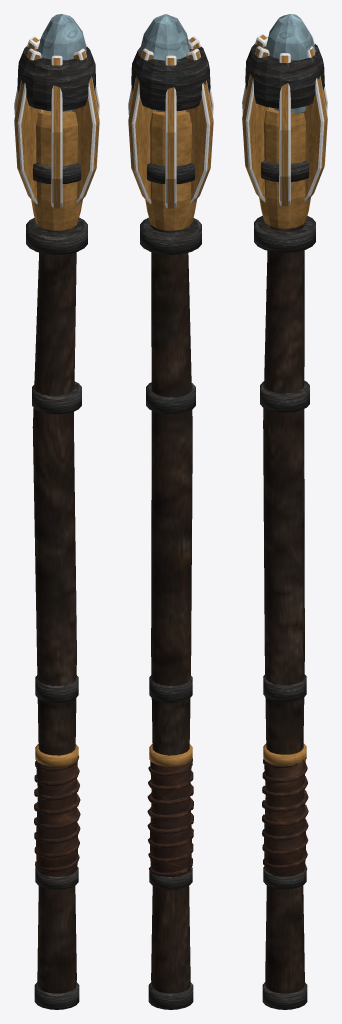
File: choir_rod.glb
3 renders of one model, left to right at view 1: azimuth 30°, elevation 25°; view 2: azimuth 150°, elevation 25°; view 3: azimuth 330°, elevation 25°, orthographic.
Visible parts, largest first — view 1: Straight palm shaft and tapered ironwood.013, Swaged head socket.012, Hollow resonant bell crown, Bound palm grip.022, Choir rod decorative cast bell fin.003, Choir rod decorative cast bell fin.005, Continuous bound leather seam.022, Gem clouded conductor, Shaft collar.010, Choir rod decorative cast bell fin.004, Shaft collar.009, Socketed pommel ferrule.013 (+4 smaller); view 2: Straight palm shaft and tapered ironwood.013, Swaged head socket.012, Hollow resonant bell crown, Bound palm grip.022, Choir rod decorative cast bell fin.001, Choir rod decorative cast bell fin.003, Continuous bound leather seam.022, Gem clouded conductor, Shaft collar.010, Choir rod decorative cast bell fin.002, Shaft collar.009, Socketed pommel ferrule.013 (+4 smaller); view 3: Straight palm shaft and tapered ironwood.013, Bound palm grip.022, Hollow resonant bell crown, Swaged head socket.012, Choir rod decorative cast bell fin.004, Choir rod decorative cast bell fin, Continuous bound leather seam.022, Gem clouded conductor, Choir rod decorative cast bell fin.005, Shaft collar.010, Shaft collar.009, Socketed pommel ferrule.013 (+4 smaller).
Part boxes in pixels (<box>): Straight palm shaft and tapered ironwood.013: <box>32,225,76,993</box>; Swaged head socket.012: <box>31,110,82,230</box>; Hollow resonant bell crown: <box>17,39,95,111</box>; Bound palm grip.022: <box>36,760,78,876</box>; Choir rod decorative cast bell fin.003: <box>14,48,42,203</box>; Choir rod decorative cast bell fin.005: <box>71,48,99,204</box>; Continuous bound leather seam.022: <box>34,756,80,871</box>; Gem clouded conductor: <box>37,14,86,112</box>; Shaft collar.010: <box>26,217,87,254</box>; Choir rod decorative cast bell fin.004: <box>51,55,62,208</box>; Shaft collar.009: <box>32,381,81,414</box>; Socketed pommel ferrule.013: <box>34,982,79,1009</box>; Straight palm shaft and tapered ironwood.013: <box>151,225,192,993</box>; Swaged head socket.012: <box>145,110,196,230</box>; Hollow resonant bell crown: <box>131,39,210,110</box>; Bound palm grip.022: <box>150,760,191,877</box>; Choir rod decorative cast bell fin.001: <box>128,48,155,203</box>; Choir rod decorative cast bell fin.003: <box>185,48,213,203</box>; Continuous bound leather seam.022: <box>147,758,193,876</box>; Gem clouded conductor: <box>140,14,189,112</box>; Shaft collar.010: <box>140,217,201,254</box>; Choir rod decorative cast bell fin.002: <box>165,55,176,208</box>; Shaft collar.009: <box>146,382,195,414</box>; Socketed pommel ferrule.013: <box>148,982,193,1009</box>; Straight palm shaft and tapered ironwood.013: <box>263,222,304,993</box>; Bound palm grip.022: <box>264,760,306,876</box>; Hollow resonant bell crown: <box>245,37,324,108</box>; Swaged head socket.012: <box>259,107,310,228</box>; Choir rod decorative cast bell fin.004: <box>242,46,270,201</box>; Choir rod decorative cast bell fin: <box>304,46,327,201</box>; Continuous bound leather seam.022: <box>262,759,308,874</box>; Gem clouded conductor: <box>266,14,315,113</box>; Choir rod decorative cast bell fin.005: <box>279,53,290,206</box>; Shaft collar.010: <box>254,216,315,252</box>; Shaft collar.009: <box>260,380,309,412</box>; Socketed pommel ferrule.013: <box>262,982,307,1009</box>.
Bounding box in the file's own units: 0.138 × 1.59 × 0.125.
6 materials, 6 textured.
